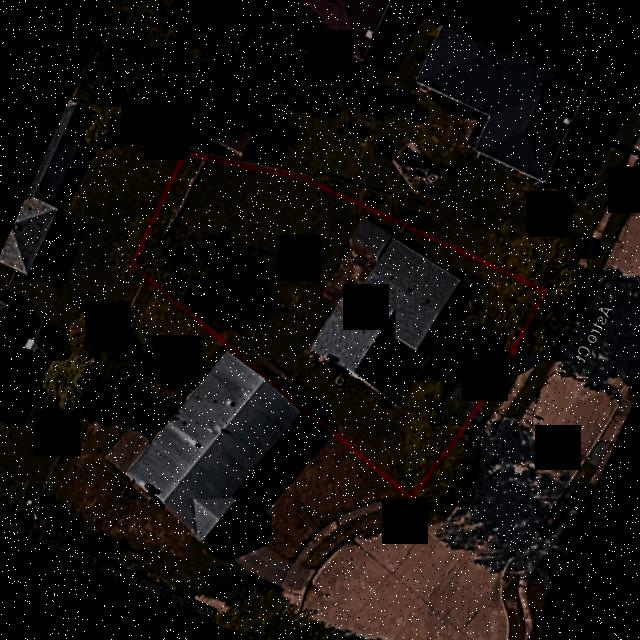Driveway: (405, 366, 477, 433)
Extra Lawn: (505, 357, 552, 417), (483, 374, 515, 409)
Extra Sidewalk: (465, 352, 544, 455)
House: (311, 237, 464, 405)
Other: (322, 216, 393, 301)
